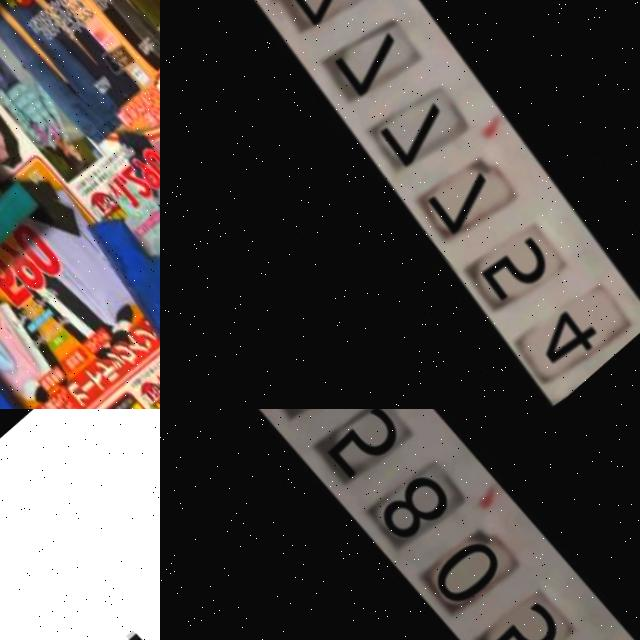0: (401, 525, 509, 622)
3: (0, 409, 160, 640)
4: (492, 286, 613, 394)
5: (445, 218, 560, 323), (300, 409, 409, 491), (458, 589, 564, 640)
7: (305, 9, 423, 116), (394, 148, 510, 253), (351, 81, 466, 185), (263, 0, 370, 43)
8: (353, 462, 458, 557)
M: (0, 88, 49, 296)
T: (58, 156, 160, 381)
